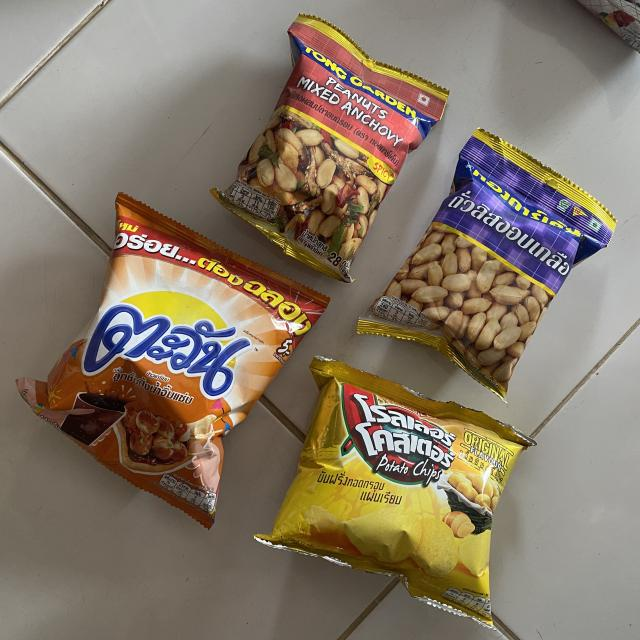plastik: (16, 194, 329, 528), (255, 358, 534, 628), (358, 129, 616, 399), (211, 15, 449, 282)
